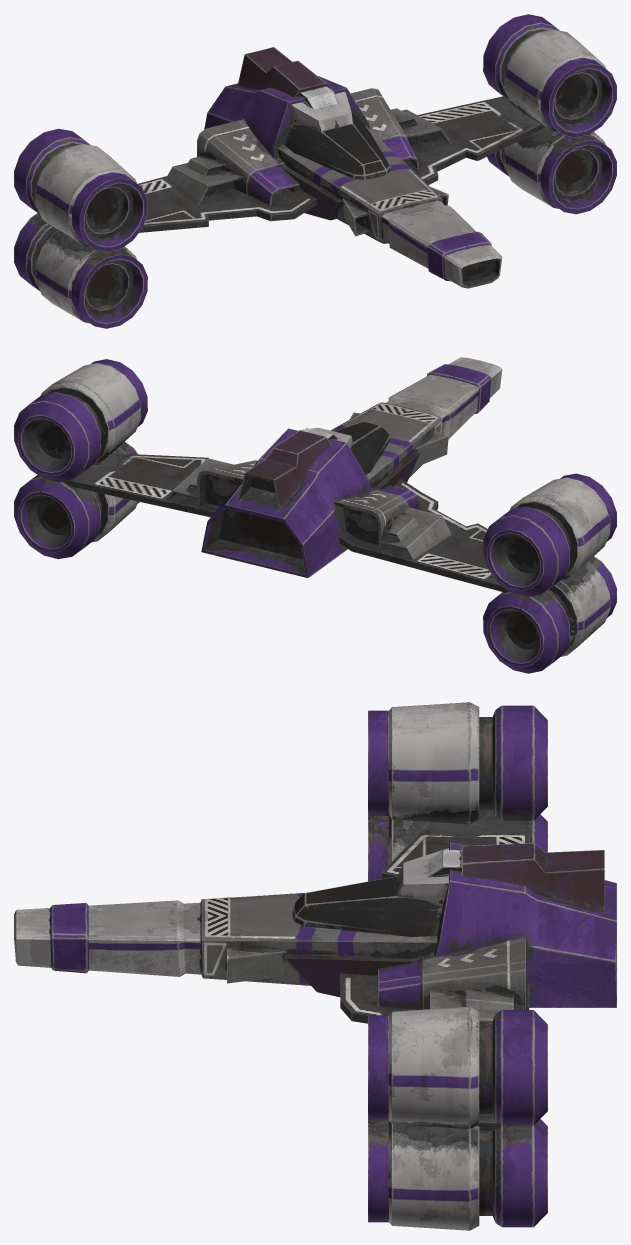
File: spitfire_purple.glb
3 views of the same model, one above another, from view 1: azimuth 30°, elevation 25°; view 2: azimuth 150°, elevation 25°; view 3: azimuth 270°, elevation 25° (orthographic). The views are drawn at different scales.
Visible parts, largest first — view 1: spitfire; view 2: spitfire; view 3: spitfire.
Boxes of the visible parts, x1=… form: spitfire: x1=14, y1=14, x2=616, y2=328; spitfire: x1=14, y1=357, x2=616, y2=673; spitfire: x1=14, y1=702, x2=616, y2=1230.
Bounding box in the file's own units: 10.52 × 3.06 × 7.53.
Materials: 1 (1 with a texture image).
